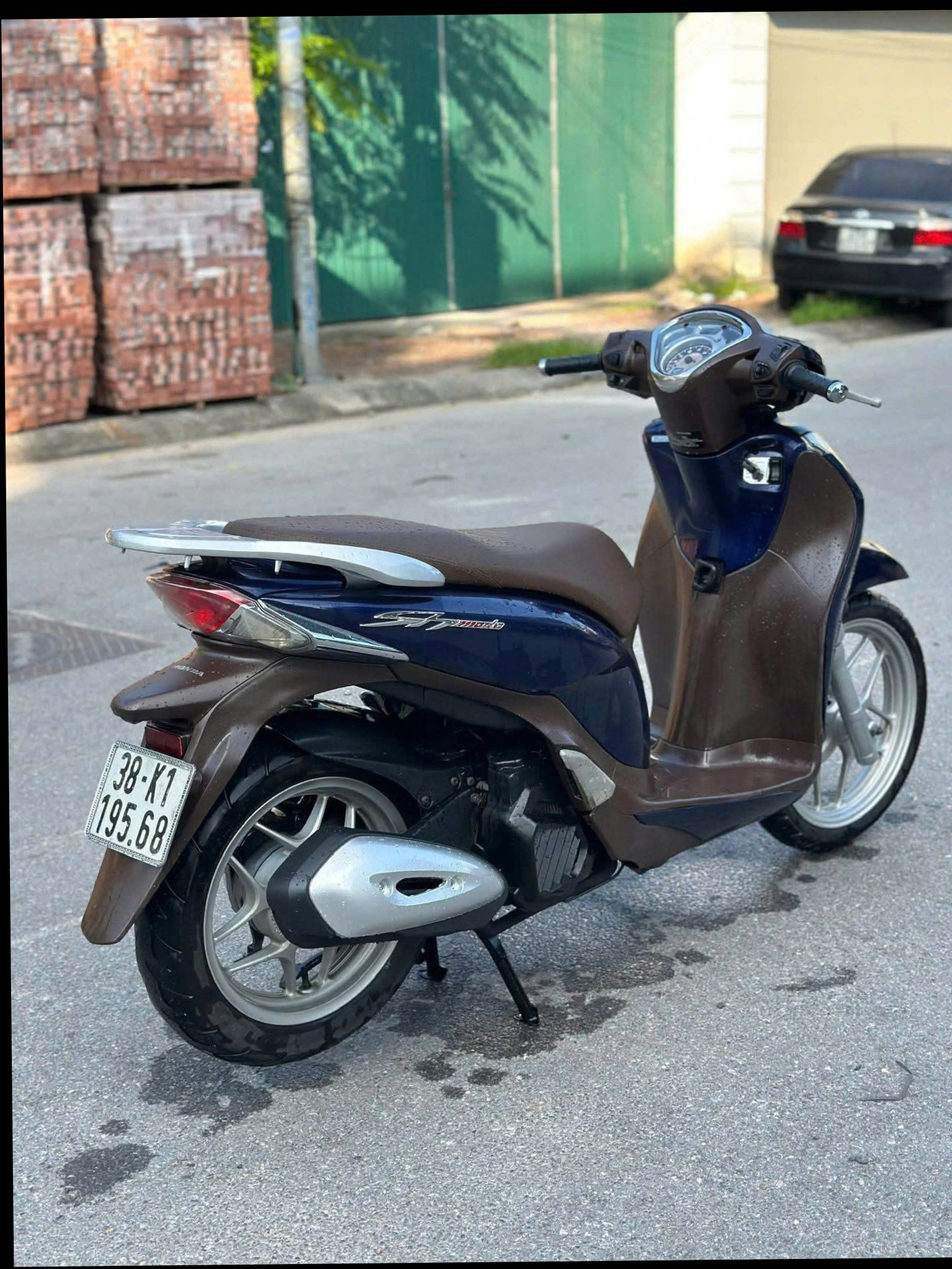Bien-so: (86, 741, 196, 870), (837, 224, 877, 256)
